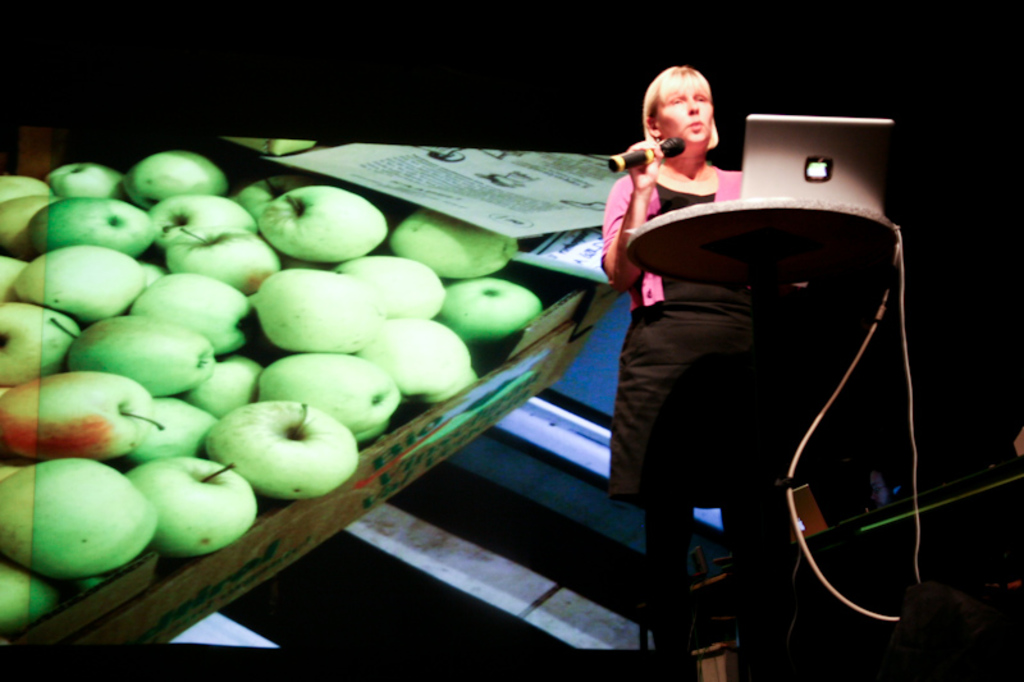Apple: (0, 142, 552, 641), (203, 395, 348, 510)
